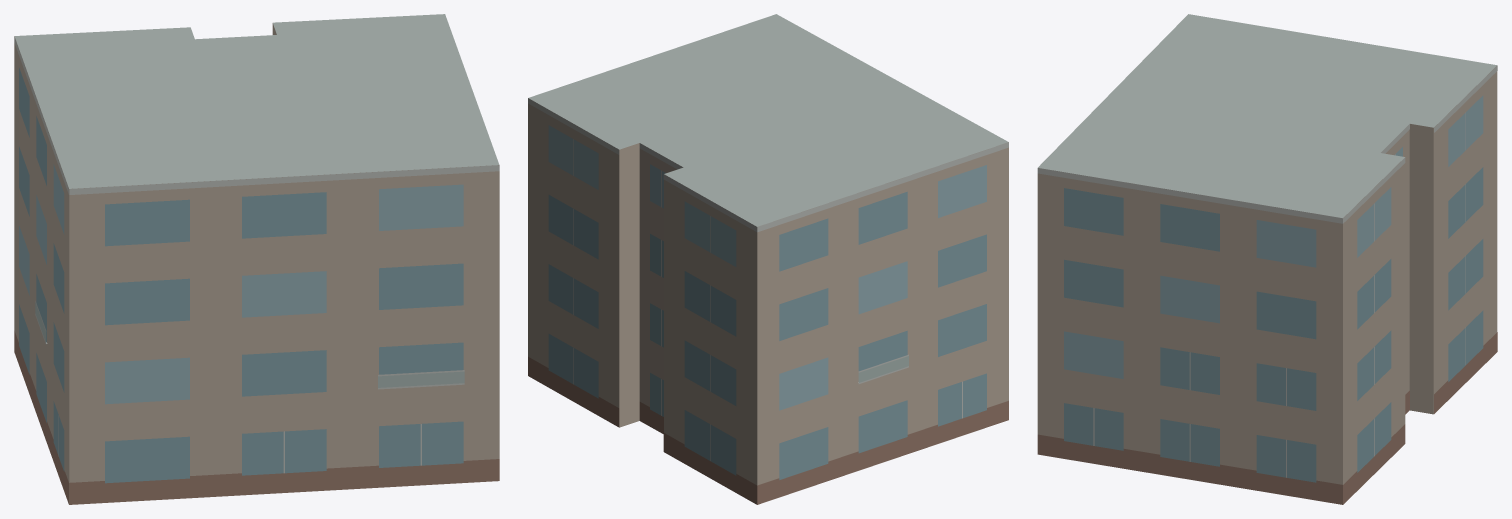
The model's file is survey-upis-32676260.glb.
3 renders of one model, left to right at view 1: azimuth 30°, elevation 25°; view 2: azimuth 150°, elevation 25°; view 3: azimuth 270°, elevation 25°, orthographic. The views are drawn at different scales.
Visible parts, largest first — view 1: survey-upis-32676260.tmp; view 2: survey-upis-32676260.tmp; view 3: survey-upis-32676260.tmp.
Boxes of the visible parts, x1,y1,x2,y2 form: survey-upis-32676260.tmp: [14, 14, 499, 504]; survey-upis-32676260.tmp: [528, 14, 1008, 504]; survey-upis-32676260.tmp: [1037, 14, 1497, 504].
Bounding box in the file's own units: 18.95 × 12.4 × 18.04.
